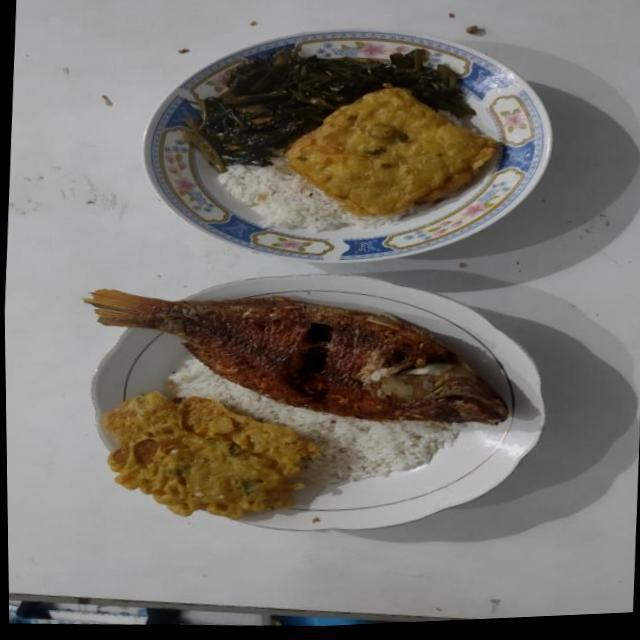ikan_mujair: (86, 290, 507, 424)
nasi_putih: (172, 360, 469, 490), (220, 156, 400, 233)
tumis_kangkung: (185, 45, 472, 172)
